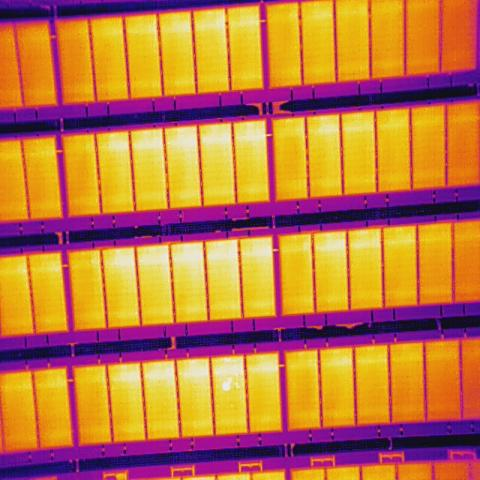fault: (220, 378, 233, 393)
